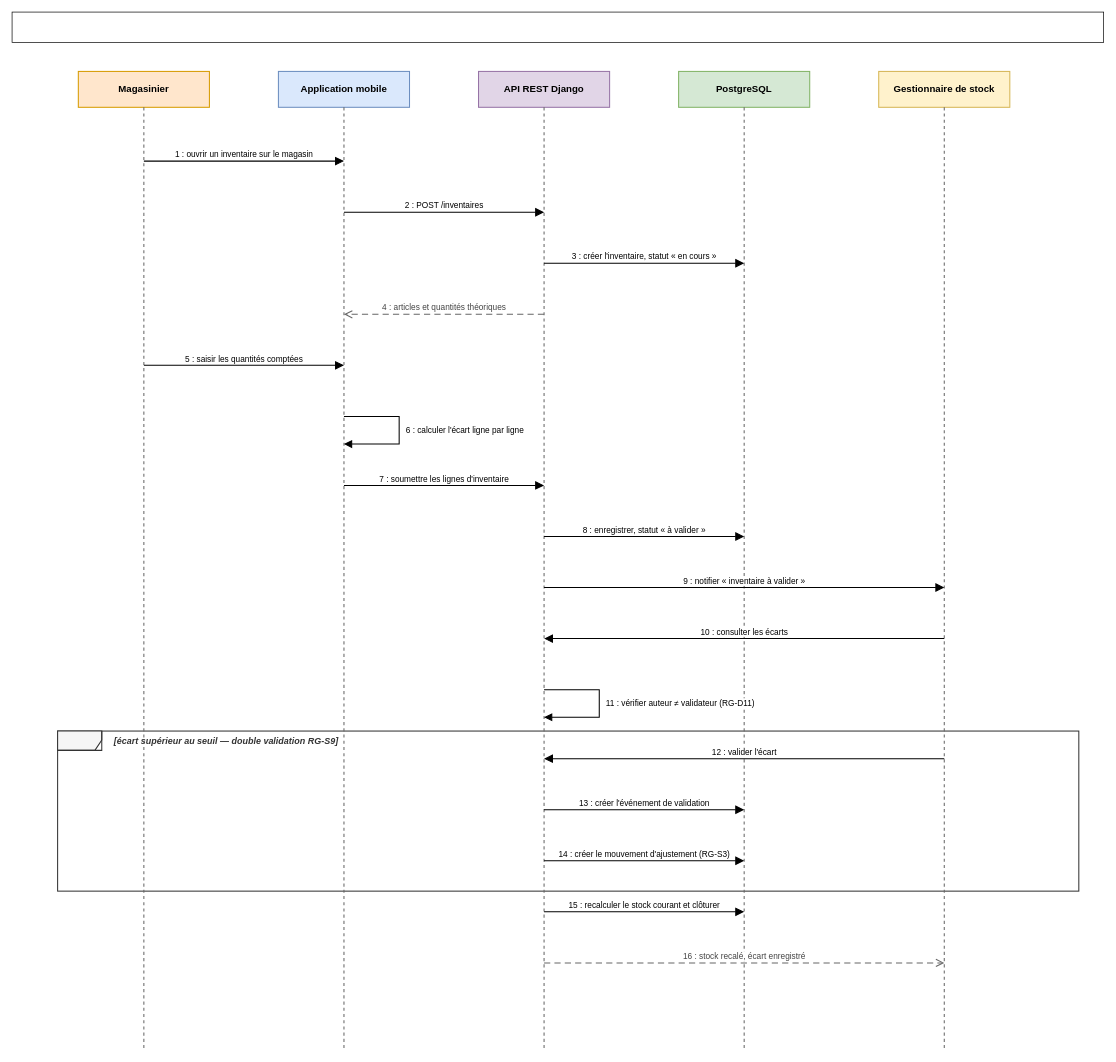
Some shapes in this 1116 by 1062 pixel diagram are drawn without their labels. Each missing label, with the box of its shape:
Diagramme de séquence 4 — Inventaire contradictoire et validation des écarts: (11, 11, 1104, 42)
opt: (57, 730, 102, 751)
